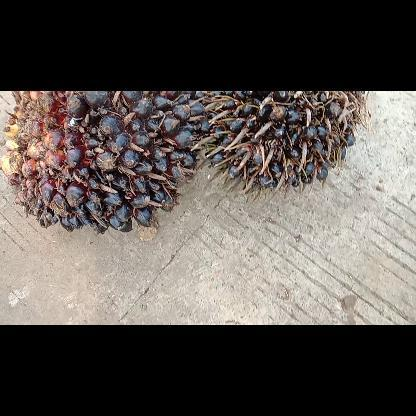TBS mentah: (0, 91, 206, 233), (195, 90, 371, 194)
